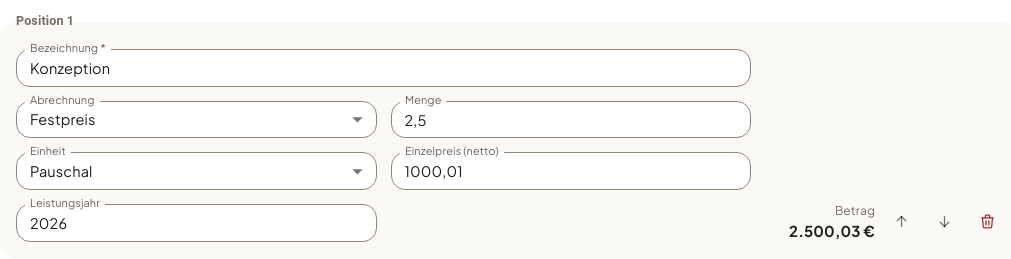
Test: Positionsmaske — die Einheit zum Modus (Kriterium 4, F7) › belegt die Einheit mit „Personentag", wenn auf Aufwand gewechselt wird
The image size is (1011, 259).
Select "Aufwand" in the dropdown labelled "Abrechnung": [196, 120] box [16,101,376,138]
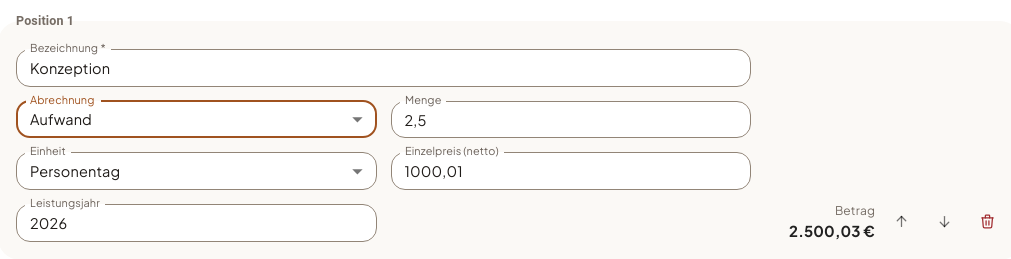
Result: the dropdown labelled "Einheit" shows "Personentag" at [16,152,376,190]
